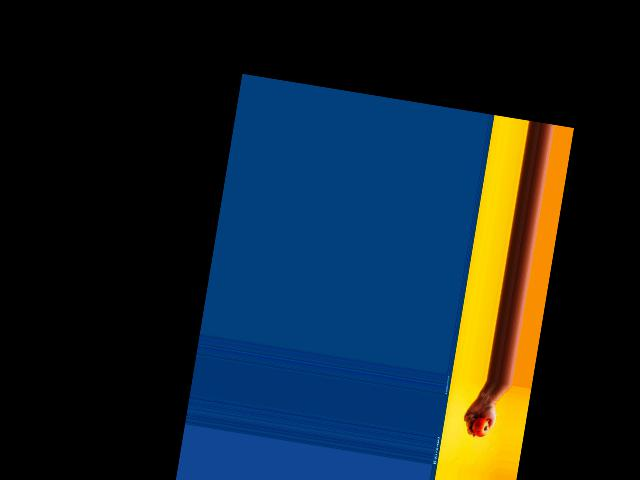tomato: (470, 416, 489, 437)
